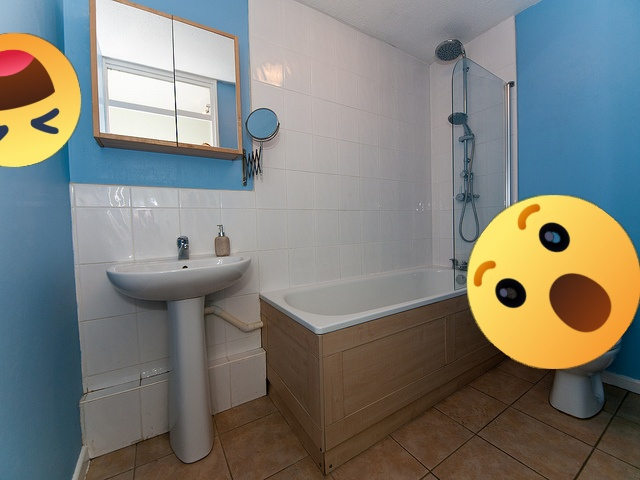haha: (0, 33, 81, 167)
wow: (467, 195, 640, 369)
